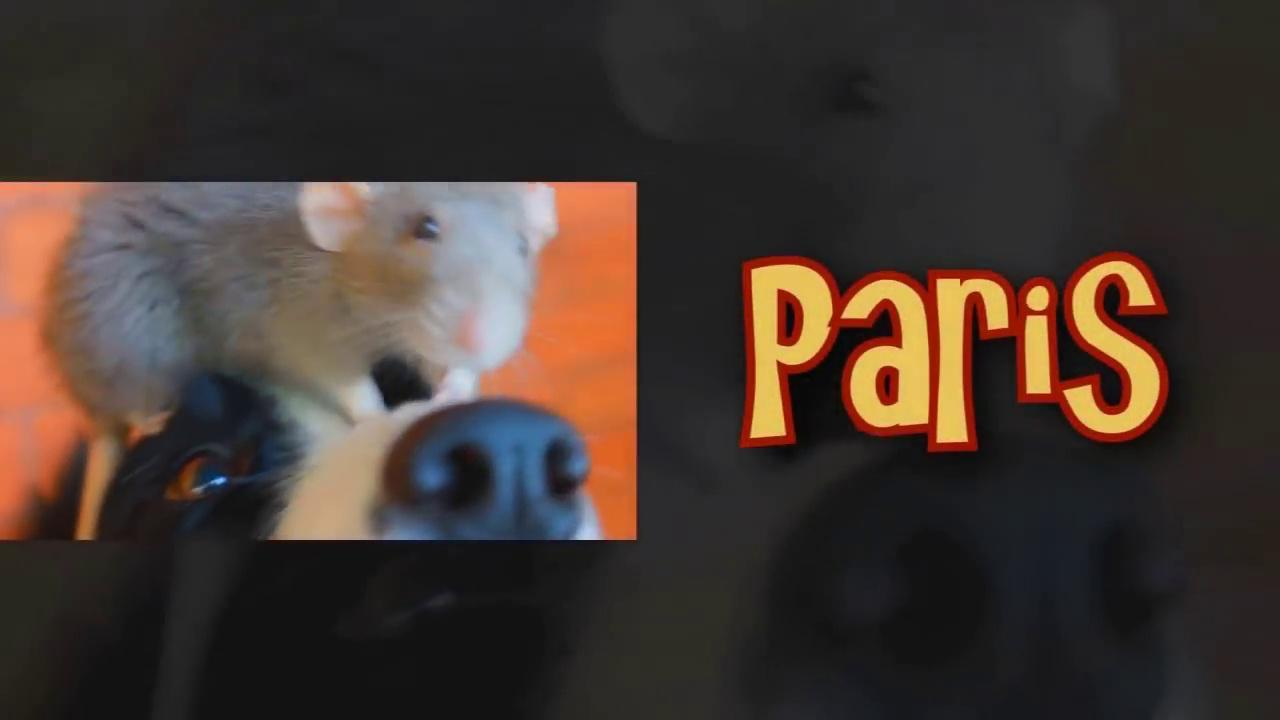rat: (46, 180, 560, 427)
